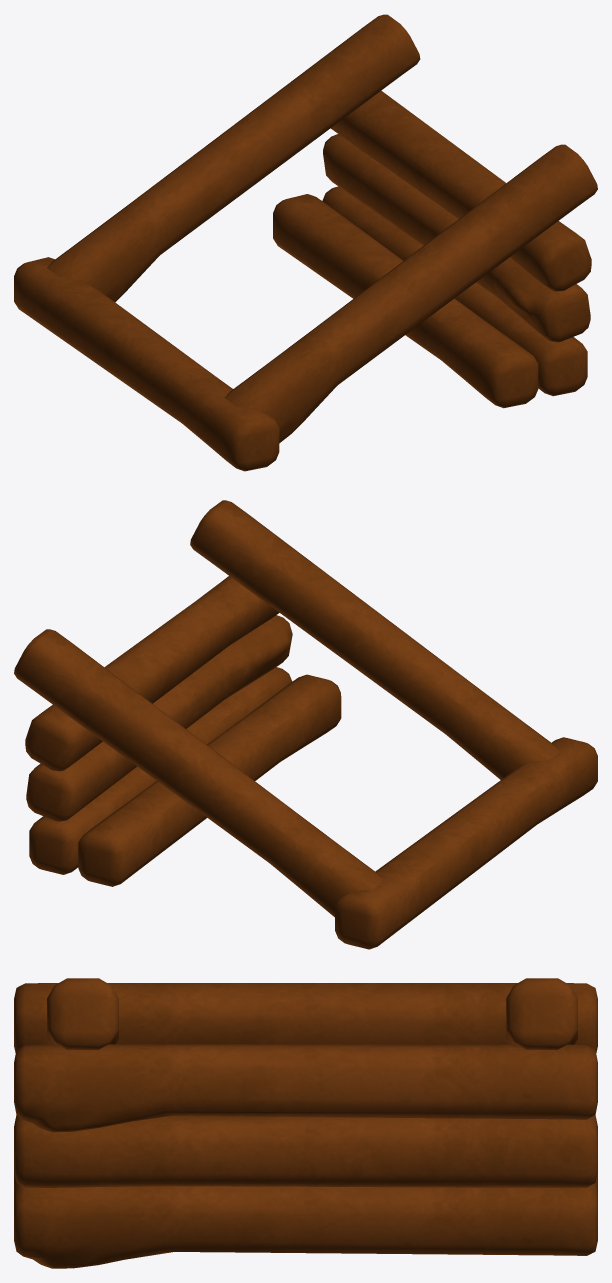
Rendered from trench.fbx.
The picture shows the model from 3 angles, top to bottom: view 1: azimuth 30°, elevation 25°; view 2: azimuth 150°, elevation 25°; view 3: azimuth 270°, elevation 25°; orthographic projection. The views are drawn at different scales.
Visible parts, largest first — view 1: thrench; view 2: thrench; view 3: thrench.
Boxes of the visible parts, x1,y1,x2,y2 form: thrench: (14,14,597,471); thrench: (14,500,597,949); thrench: (14,978,597,1268).
Size of the model in its own units: 137 by 78.92 by 141.
Materials: 1 (1 with a texture image).
